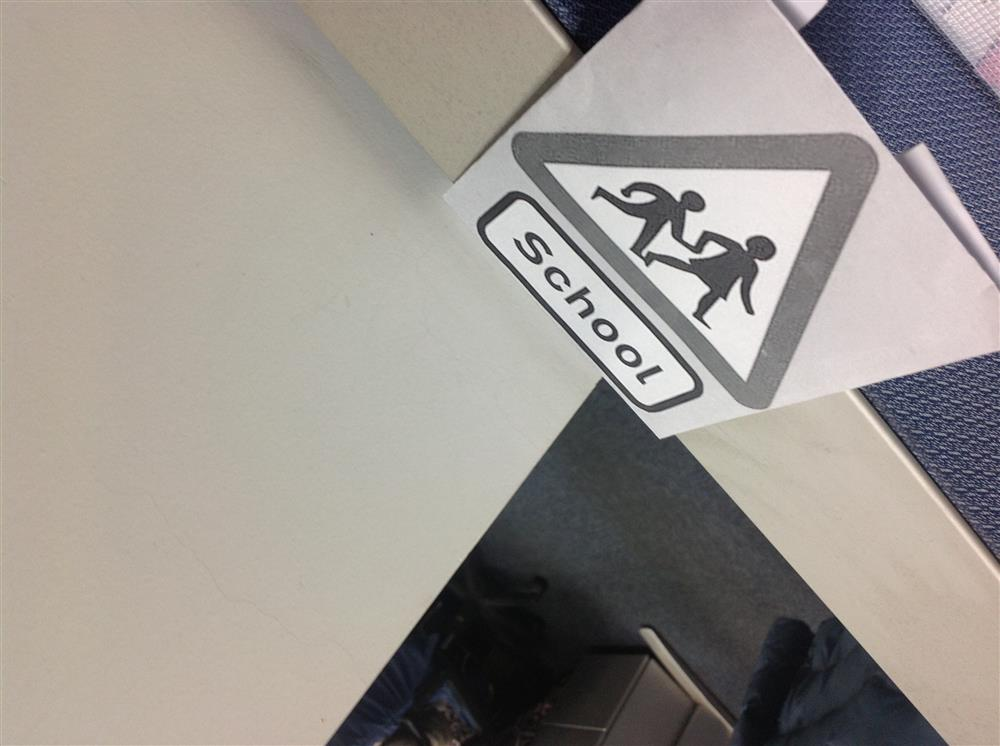road_sign_school: (468, 125, 877, 414)
